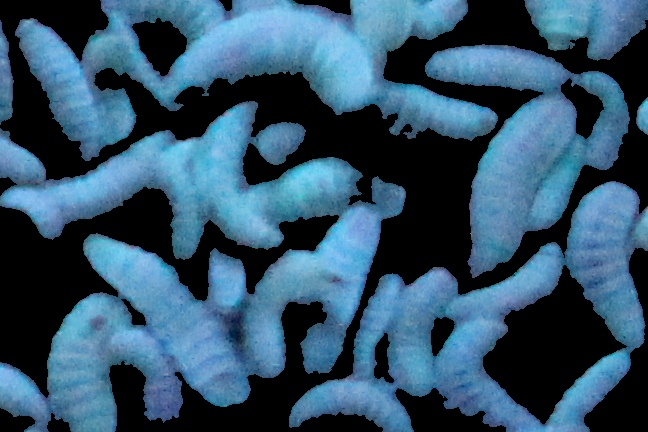larvae: (82, 232, 251, 406), (166, 8, 381, 109), (469, 96, 581, 271), (563, 181, 647, 350), (301, 203, 384, 371), (47, 290, 137, 432), (244, 250, 344, 377), (433, 316, 542, 432), (10, 19, 98, 154), (47, 131, 175, 218), (248, 156, 408, 224), (201, 104, 275, 251), (451, 244, 564, 321), (393, 265, 457, 396), (81, 31, 177, 111), (372, 78, 495, 140), (106, 329, 188, 419), (286, 375, 412, 432), (423, 48, 569, 94), (548, 350, 628, 432), (155, 137, 203, 257), (529, 136, 591, 227), (576, 66, 630, 168), (354, 275, 402, 379), (96, 2, 231, 36), (581, 1, 648, 64), (204, 255, 248, 344), (513, 2, 588, 50), (1, 185, 63, 237), (352, 1, 415, 51), (412, 1, 474, 34)
